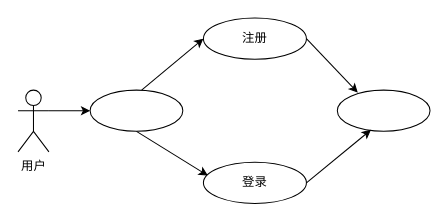
The diagram is 448 pixels wide and 221 high, and some of its shapes have lost their labels. The shapes that lost their labels are listed below. From the top down, each one's centre as x and y in pixels, then its label:
At point (136, 110): "访问系统".
At point (383, 110): "使用功能".
